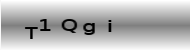1: (37, 18, 51, 32)
Q: (60, 18, 78, 34)
T: (24, 26, 38, 41)
g: (82, 22, 96, 36)
i: (106, 19, 113, 33)
